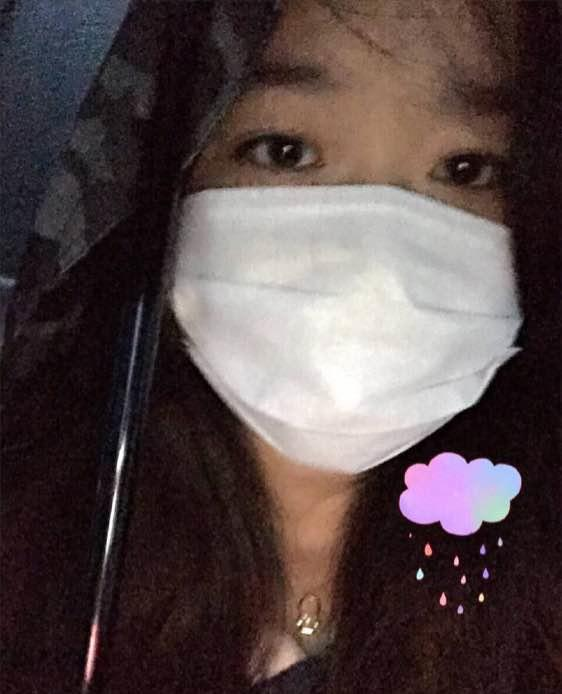OK: (183, 101, 548, 466)
